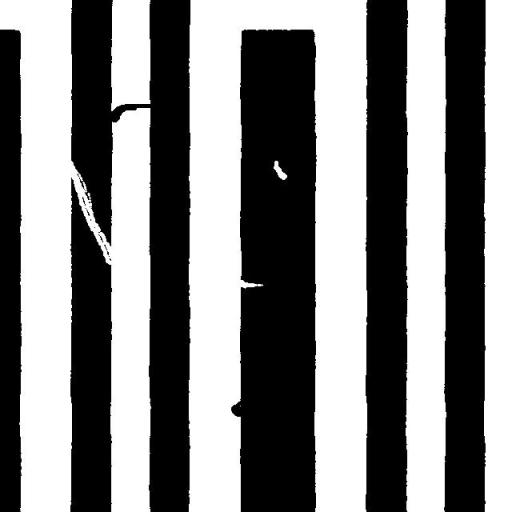mousebite: (230, 272, 270, 296)
open: (62, 152, 124, 273)
pin-hole: (266, 153, 294, 187)
short: (102, 96, 162, 130)
spur: (223, 393, 254, 424)
